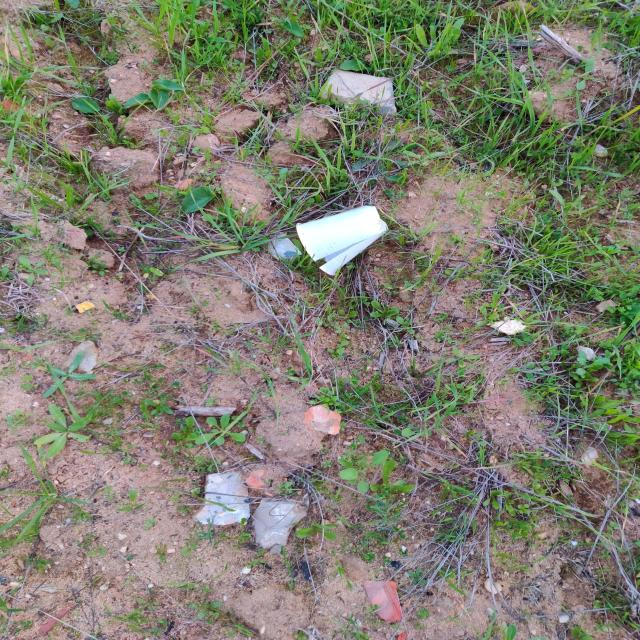litter: (293, 207, 389, 277)
